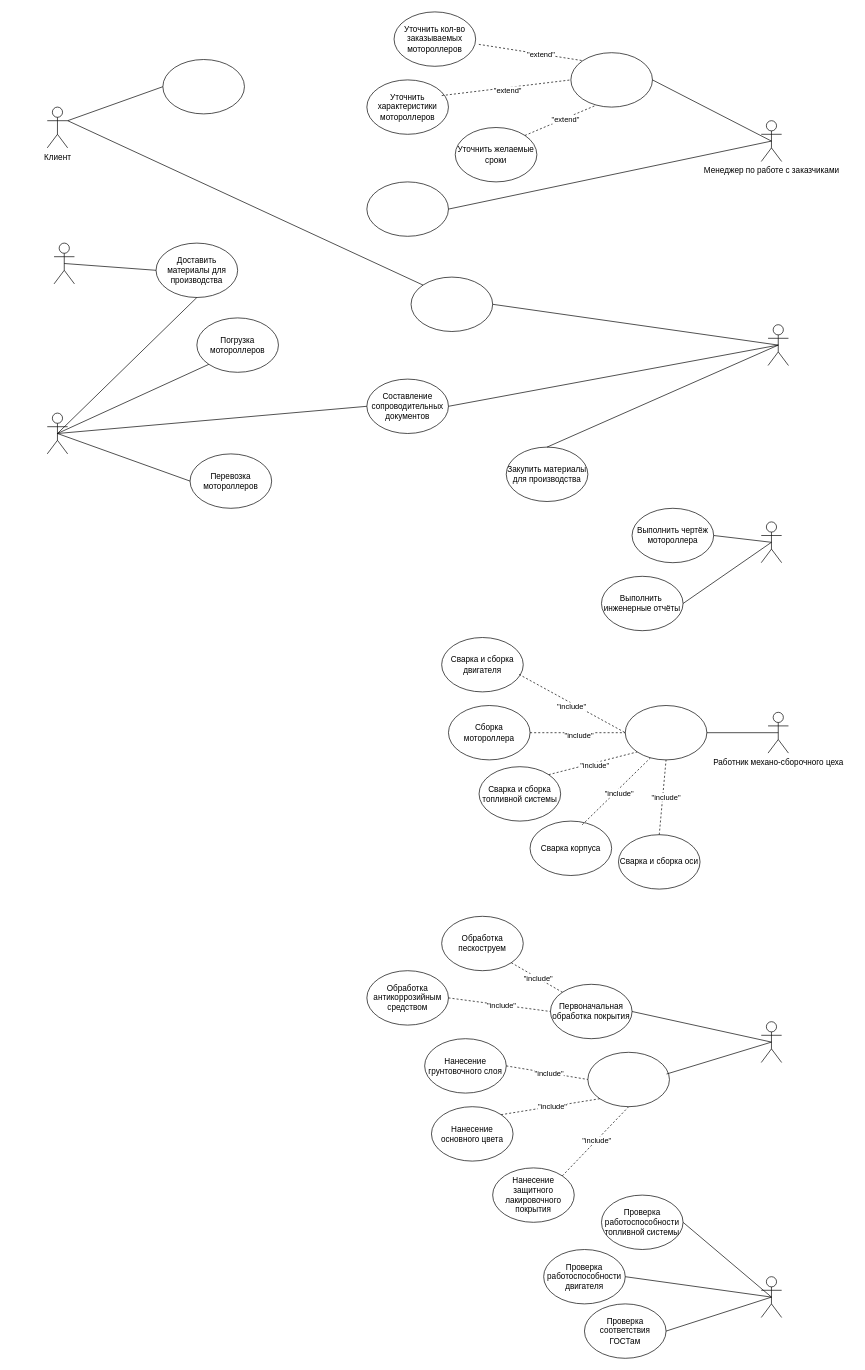
Image size: 865x1370. Some labels were removed from this diagram. The centre of each missing label's shape, as x and y in pixels:
Бухгалтер: [777,345]
Изготовление деталей мотороллеров: [666,732]
Конструктор: [771,542]
Покраска мотороллера: [628,1079]
Поставщик: [63,263]
Принять запрос заказчика: [611,79]
Проведение оплаты заказа: [451,304]
Работник контрольно-измерительного цеха: [771,1297]
Работник покрасочного цеха: [771,1041]
Сделать заказ: [203,86]
Транспортная компания: [57,433]
Уведомить о готовности заказа: [407,208]
